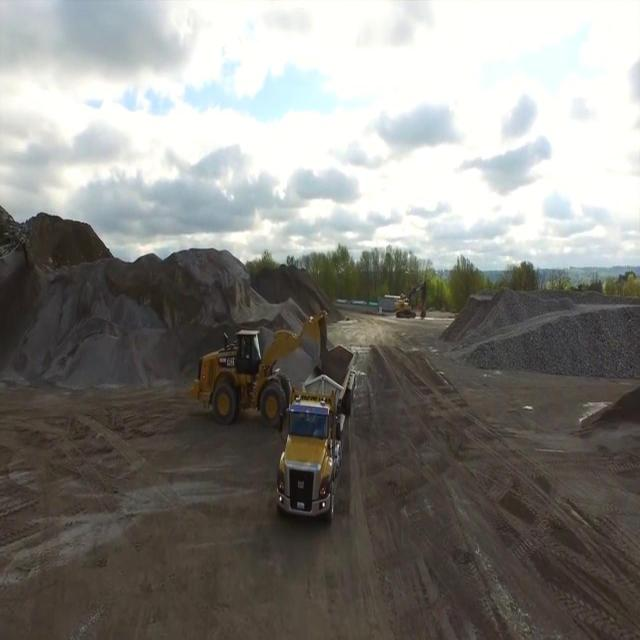buldozerpayloadergrader: (187, 310, 327, 430)
dump_truck: (274, 340, 358, 527)
excavator: (394, 280, 427, 320)
